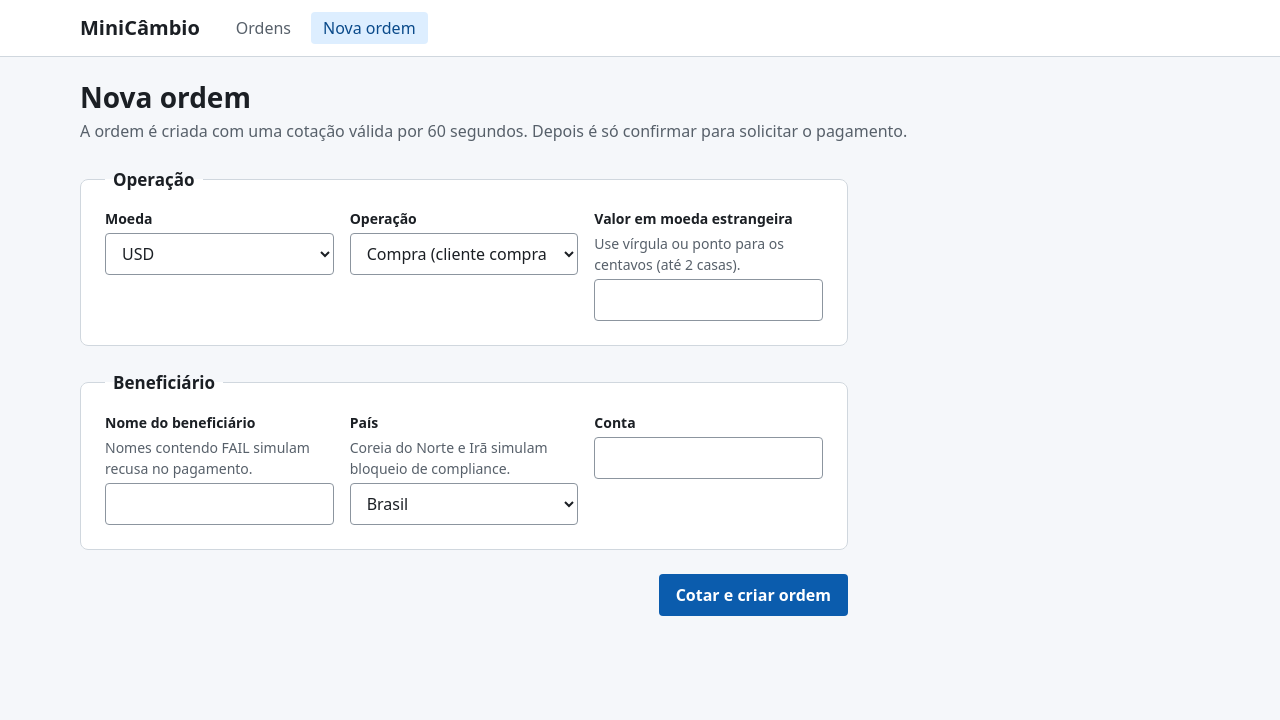
CreateOrderPage › valida os campos, liga os erros aos campos e foca o primeiro inválido
Click the button "Cotar e criar ordem": (753, 595) [659,574,848,616]
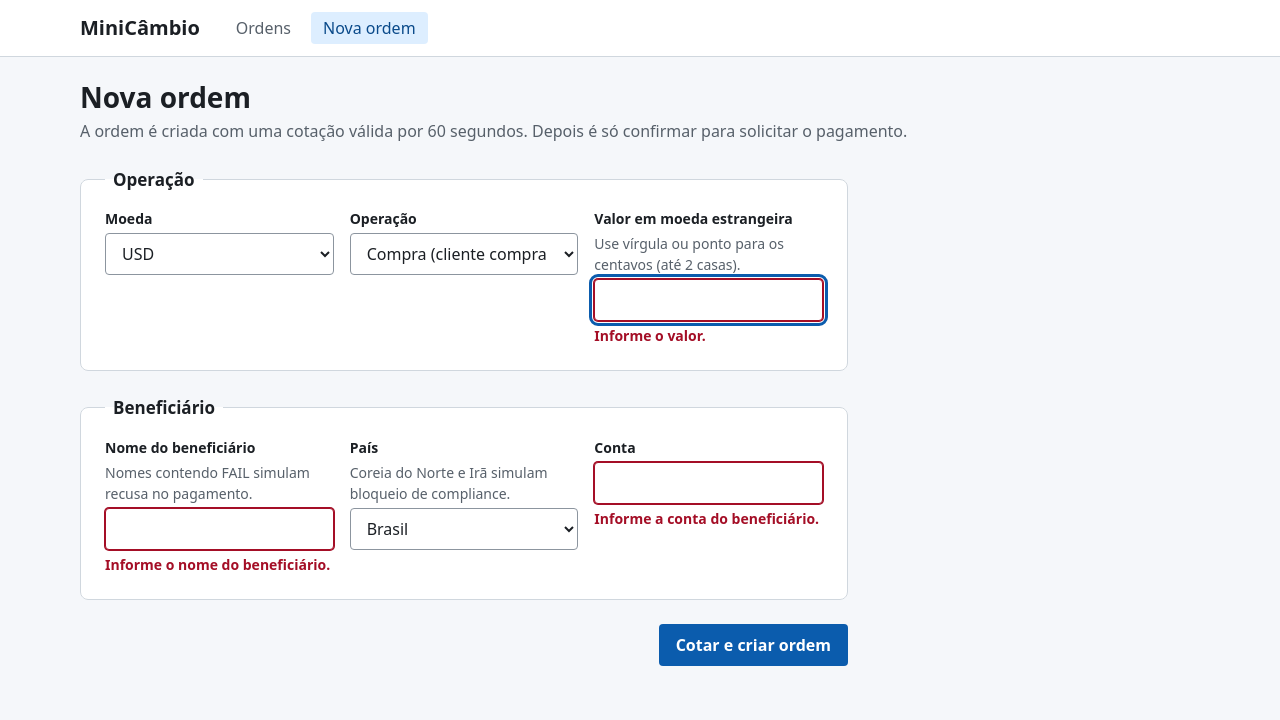
Expected: the text "Informe o nome do beneficiário." is shown, [105,554,334,575]
Expected: the text "Informe a conta do beneficiário." is shown, [594,508,823,529]
